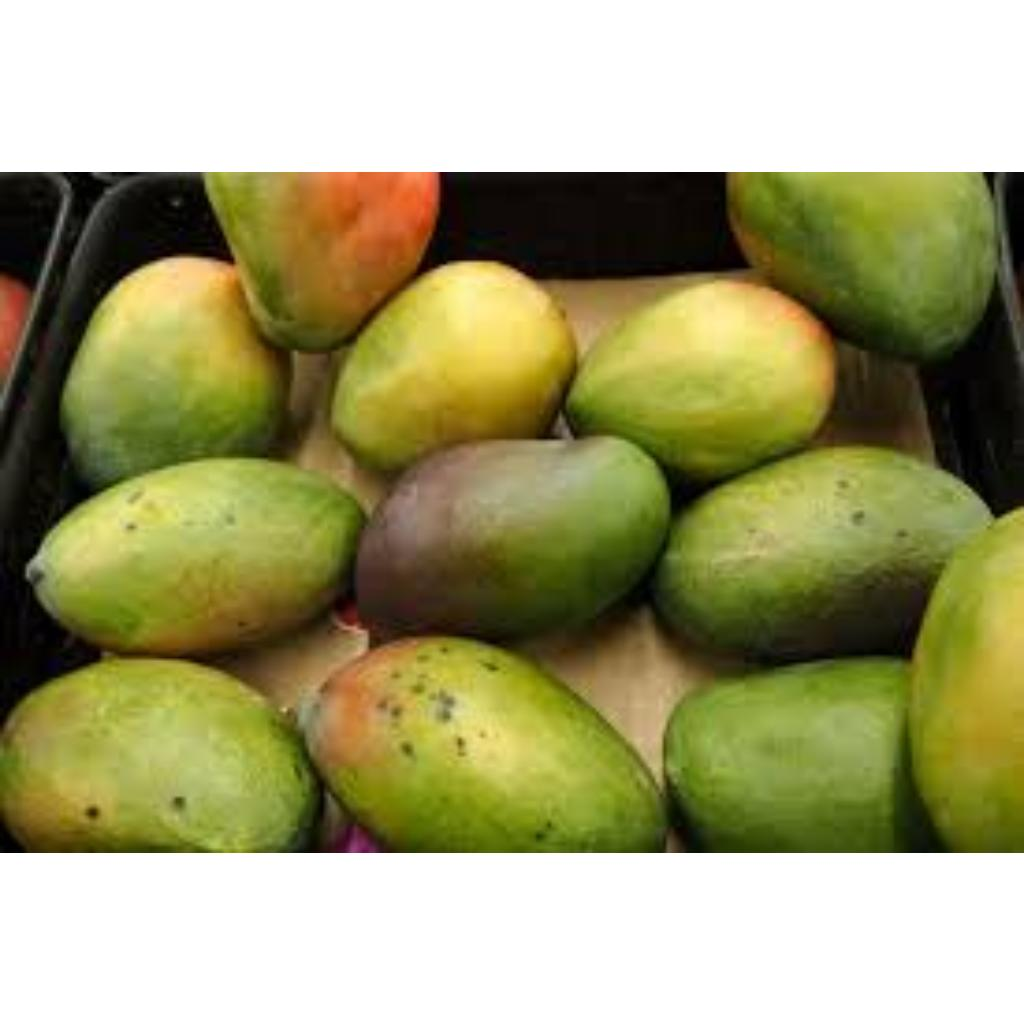mango: (291, 633, 678, 852), (658, 450, 988, 667), (29, 456, 363, 668), (354, 435, 674, 651), (0, 656, 326, 852), (577, 274, 844, 497), (59, 249, 291, 492), (662, 657, 949, 852), (322, 259, 591, 458), (728, 173, 1000, 357), (901, 488, 1024, 852), (207, 171, 439, 345)
